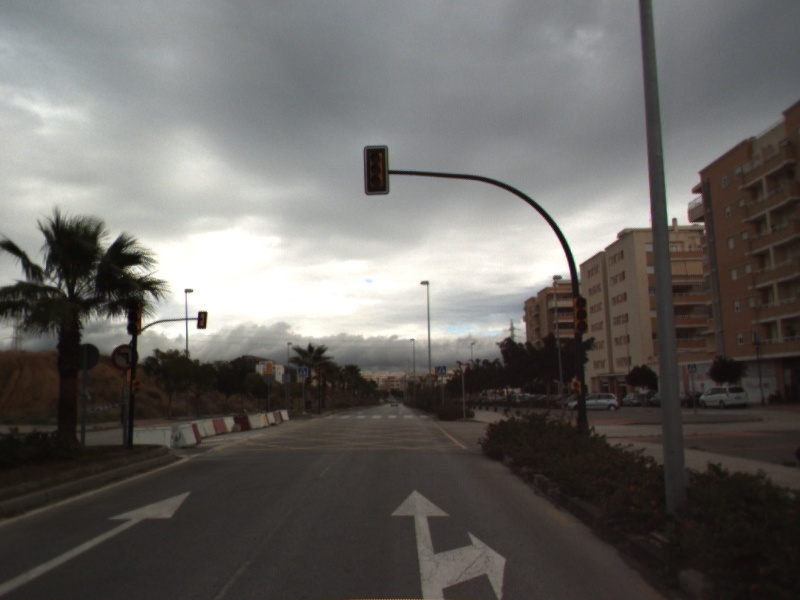STRAIGHT: (1, 489, 193, 597)
STRAIGHT_RIGHT: (389, 488, 508, 600)
